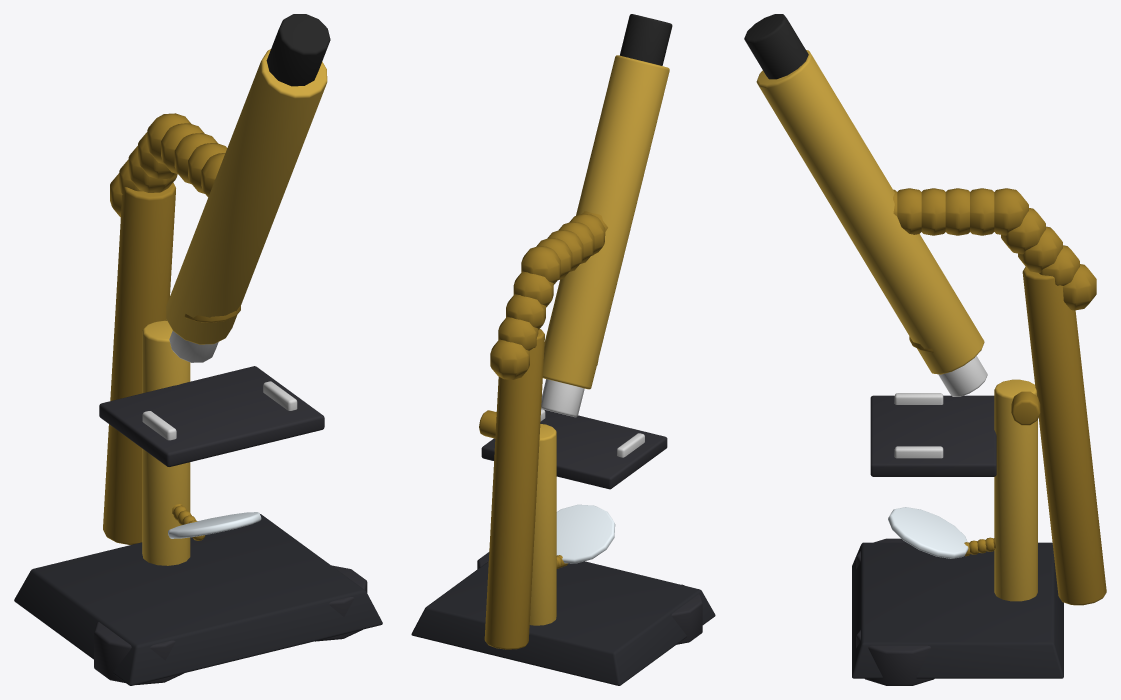
File: microscopio_antigo.glb
The picture shows the model from 3 angles, left to right: view 1: azimuth 30°, elevation 25°; view 2: azimuth 150°, elevation 25°; view 3: azimuth 270°, elevation 25°; orthographic projection. The views are drawn at different scales.
Visible parts, largest first — view 1: microscopio_antigo; view 2: microscopio_antigo; view 3: microscopio_antigo.
Boxes of the visible parts, x1=… form: microscopio_antigo: x1=14, y1=14, x2=382, y2=685; microscopio_antigo: x1=411, y1=14, x2=715, y2=685; microscopio_antigo: x1=744, y1=14, x2=1106, y2=685.
Size of the model in its own units: 0.5562 by 1.39 by 0.7469.
